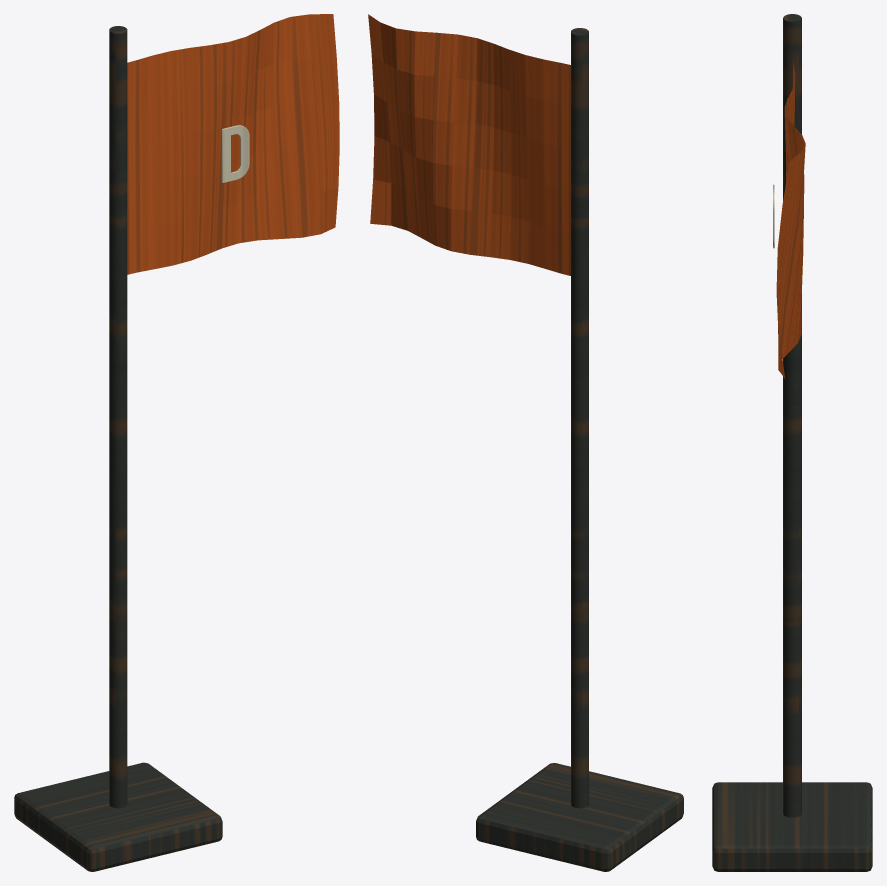
File: route-flag-lod.obj
3 renders of one model, left to right at view 1: azimuth 30°, elevation 25°; view 2: azimuth 150°, elevation 25°; view 3: azimuth 270°, elevation 25°, orthographic. The views are drawn at different scales.
Visible parts, largest first — view 1: route-flag.001; view 2: route-flag.001; view 3: route-flag.001.
Part boxes in pixels (<box>): route-flag.001: <box>14,14,339,871</box>; route-flag.001: <box>368,14,683,871</box>; route-flag.001: <box>712,14,872,871</box>.
Size of the model in its own units: 1.25 by 3.4 by 0.6.
1 material, 1 textured.
